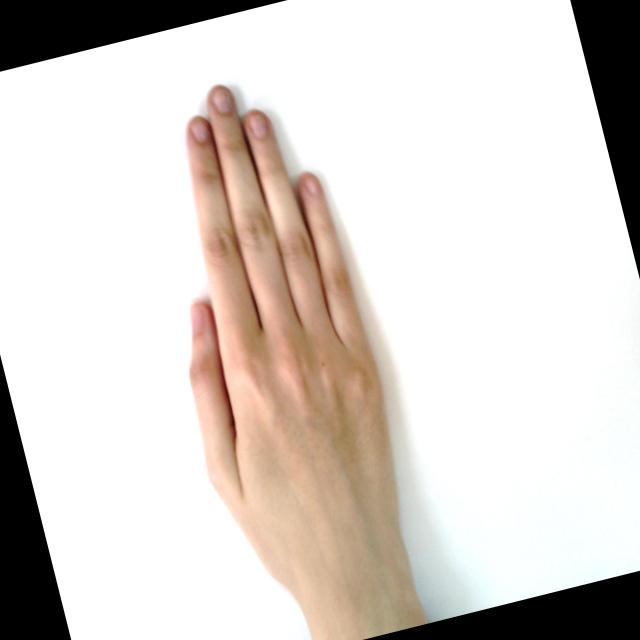Nail: (206, 84, 234, 112), (242, 109, 268, 137), (186, 301, 203, 337), (187, 116, 208, 142), (301, 172, 319, 195)
